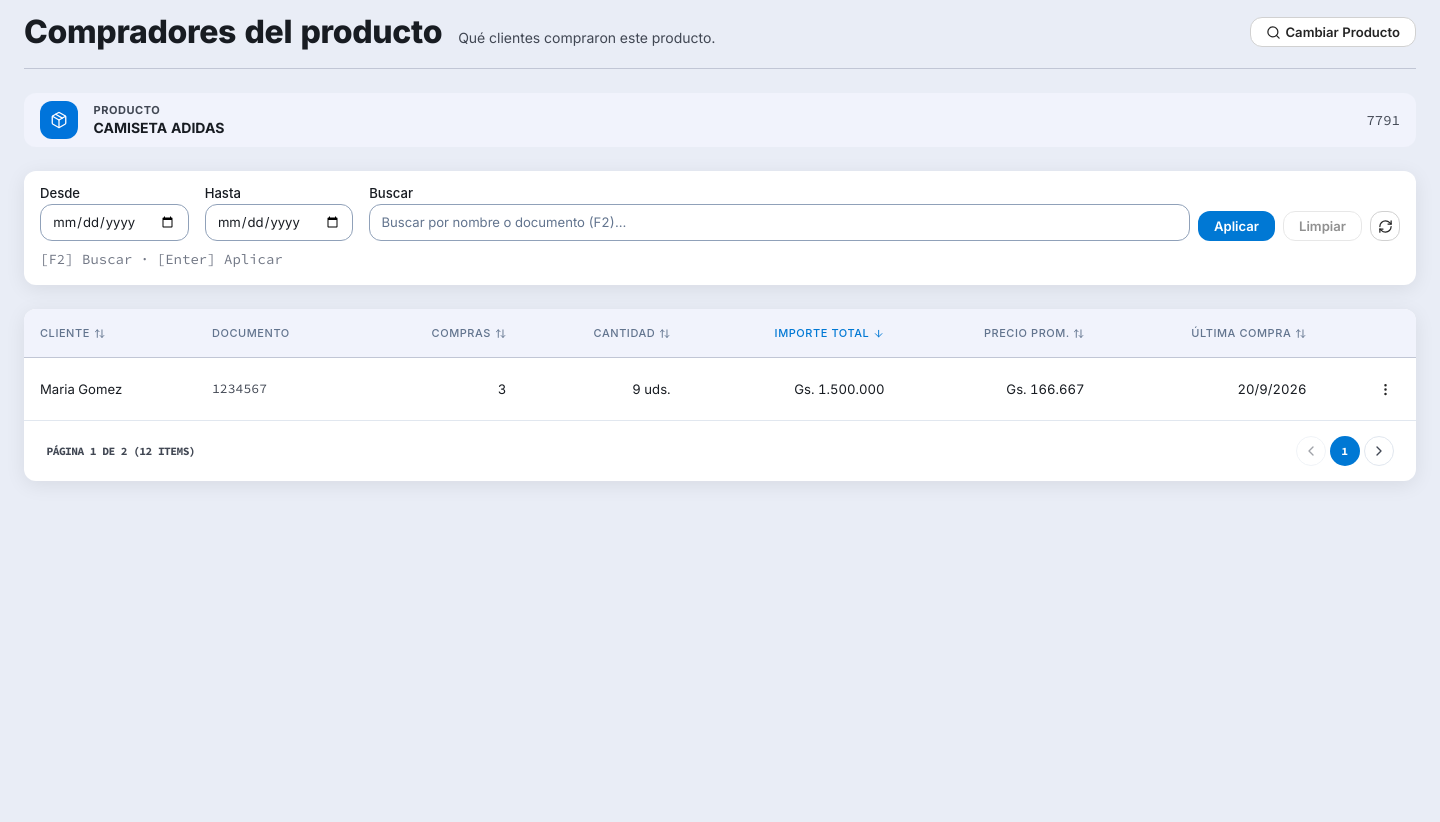
Scenario: ProductBuyersPage (F3) › el menú por fila muestra datos de la fila y pivota al análisis del cliente
The width and height of the screenshot is (1440, 822).
Expected: the text "Maria Gomez" is shown, top-left (24, 358), bottom-right (196, 420)
Click the button with test id "drilldown-row-actions": (1385, 389) top-left (1370, 374), bottom-right (1400, 404)
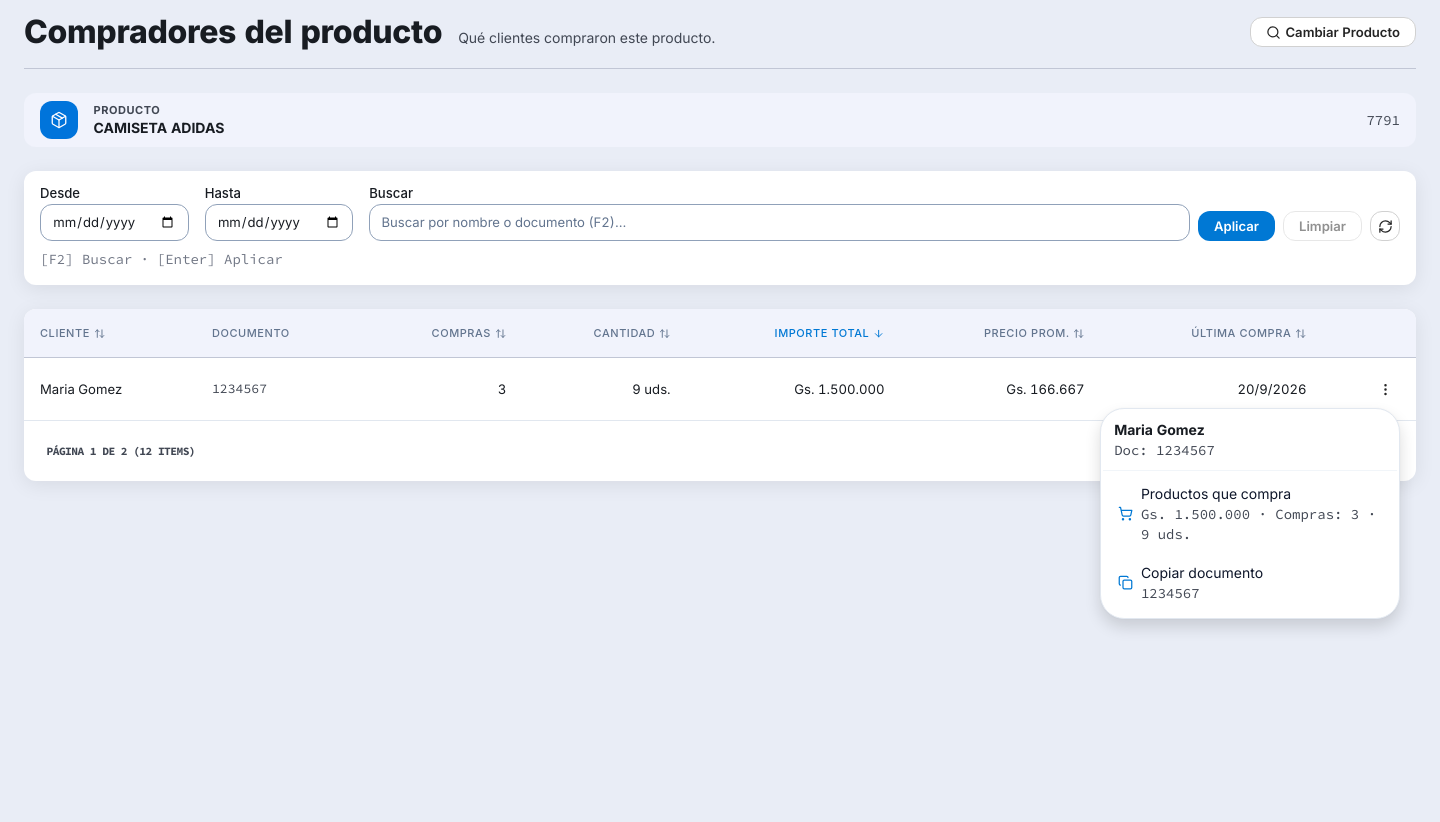
Expected: the text "Doc: 1234567" is shown, top-left (1114, 441), bottom-right (1215, 459)
Expected: the text "Gs. 1.500.000 · Compras: 3 · 9 uds." is shown, top-left (1141, 504), bottom-right (1382, 544)
Click the menu item with test id "drilldown-row-action-customer-top": (1250, 514) top-left (1107, 474), bottom-right (1393, 553)
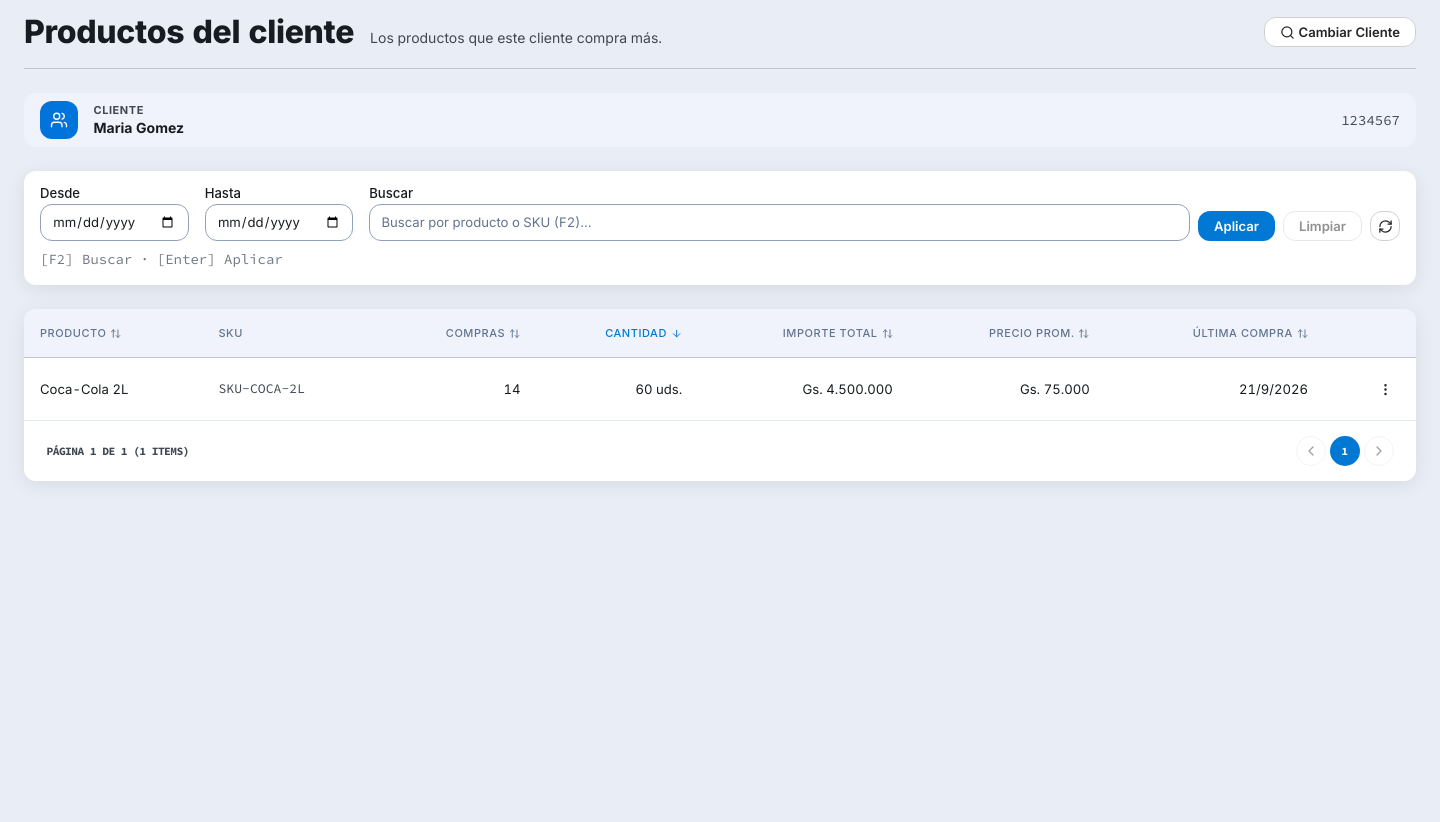
Expected: the text "Coca-Cola 2L" is shown, top-left (24, 358), bottom-right (202, 420)
